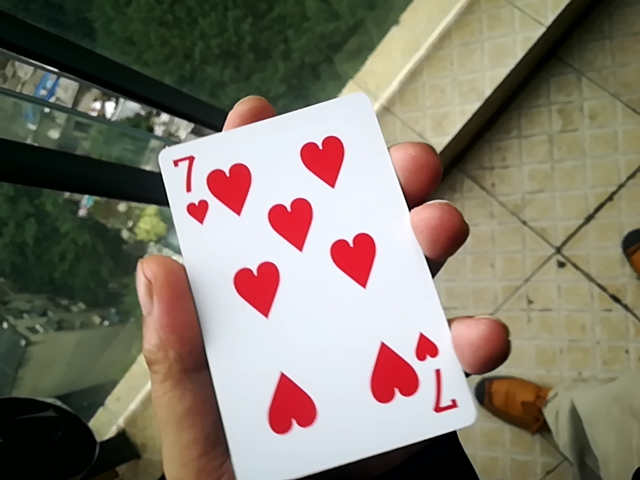hx 7: (140, 87, 476, 479)
